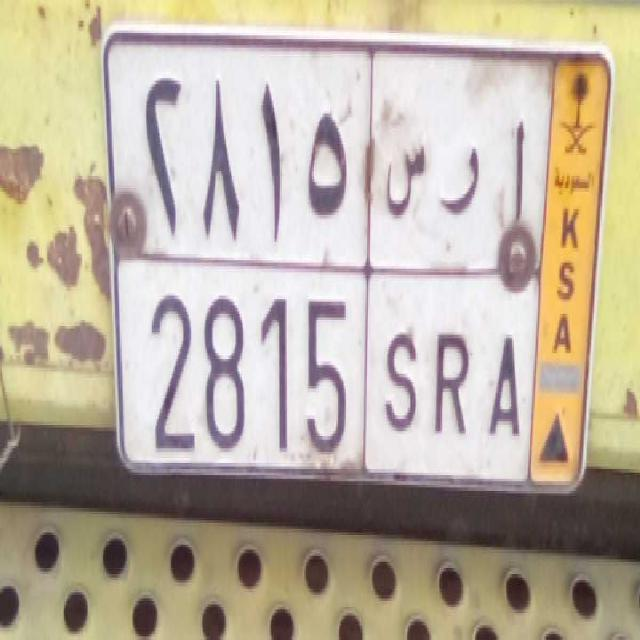license_plate: (118, 256, 532, 488)
